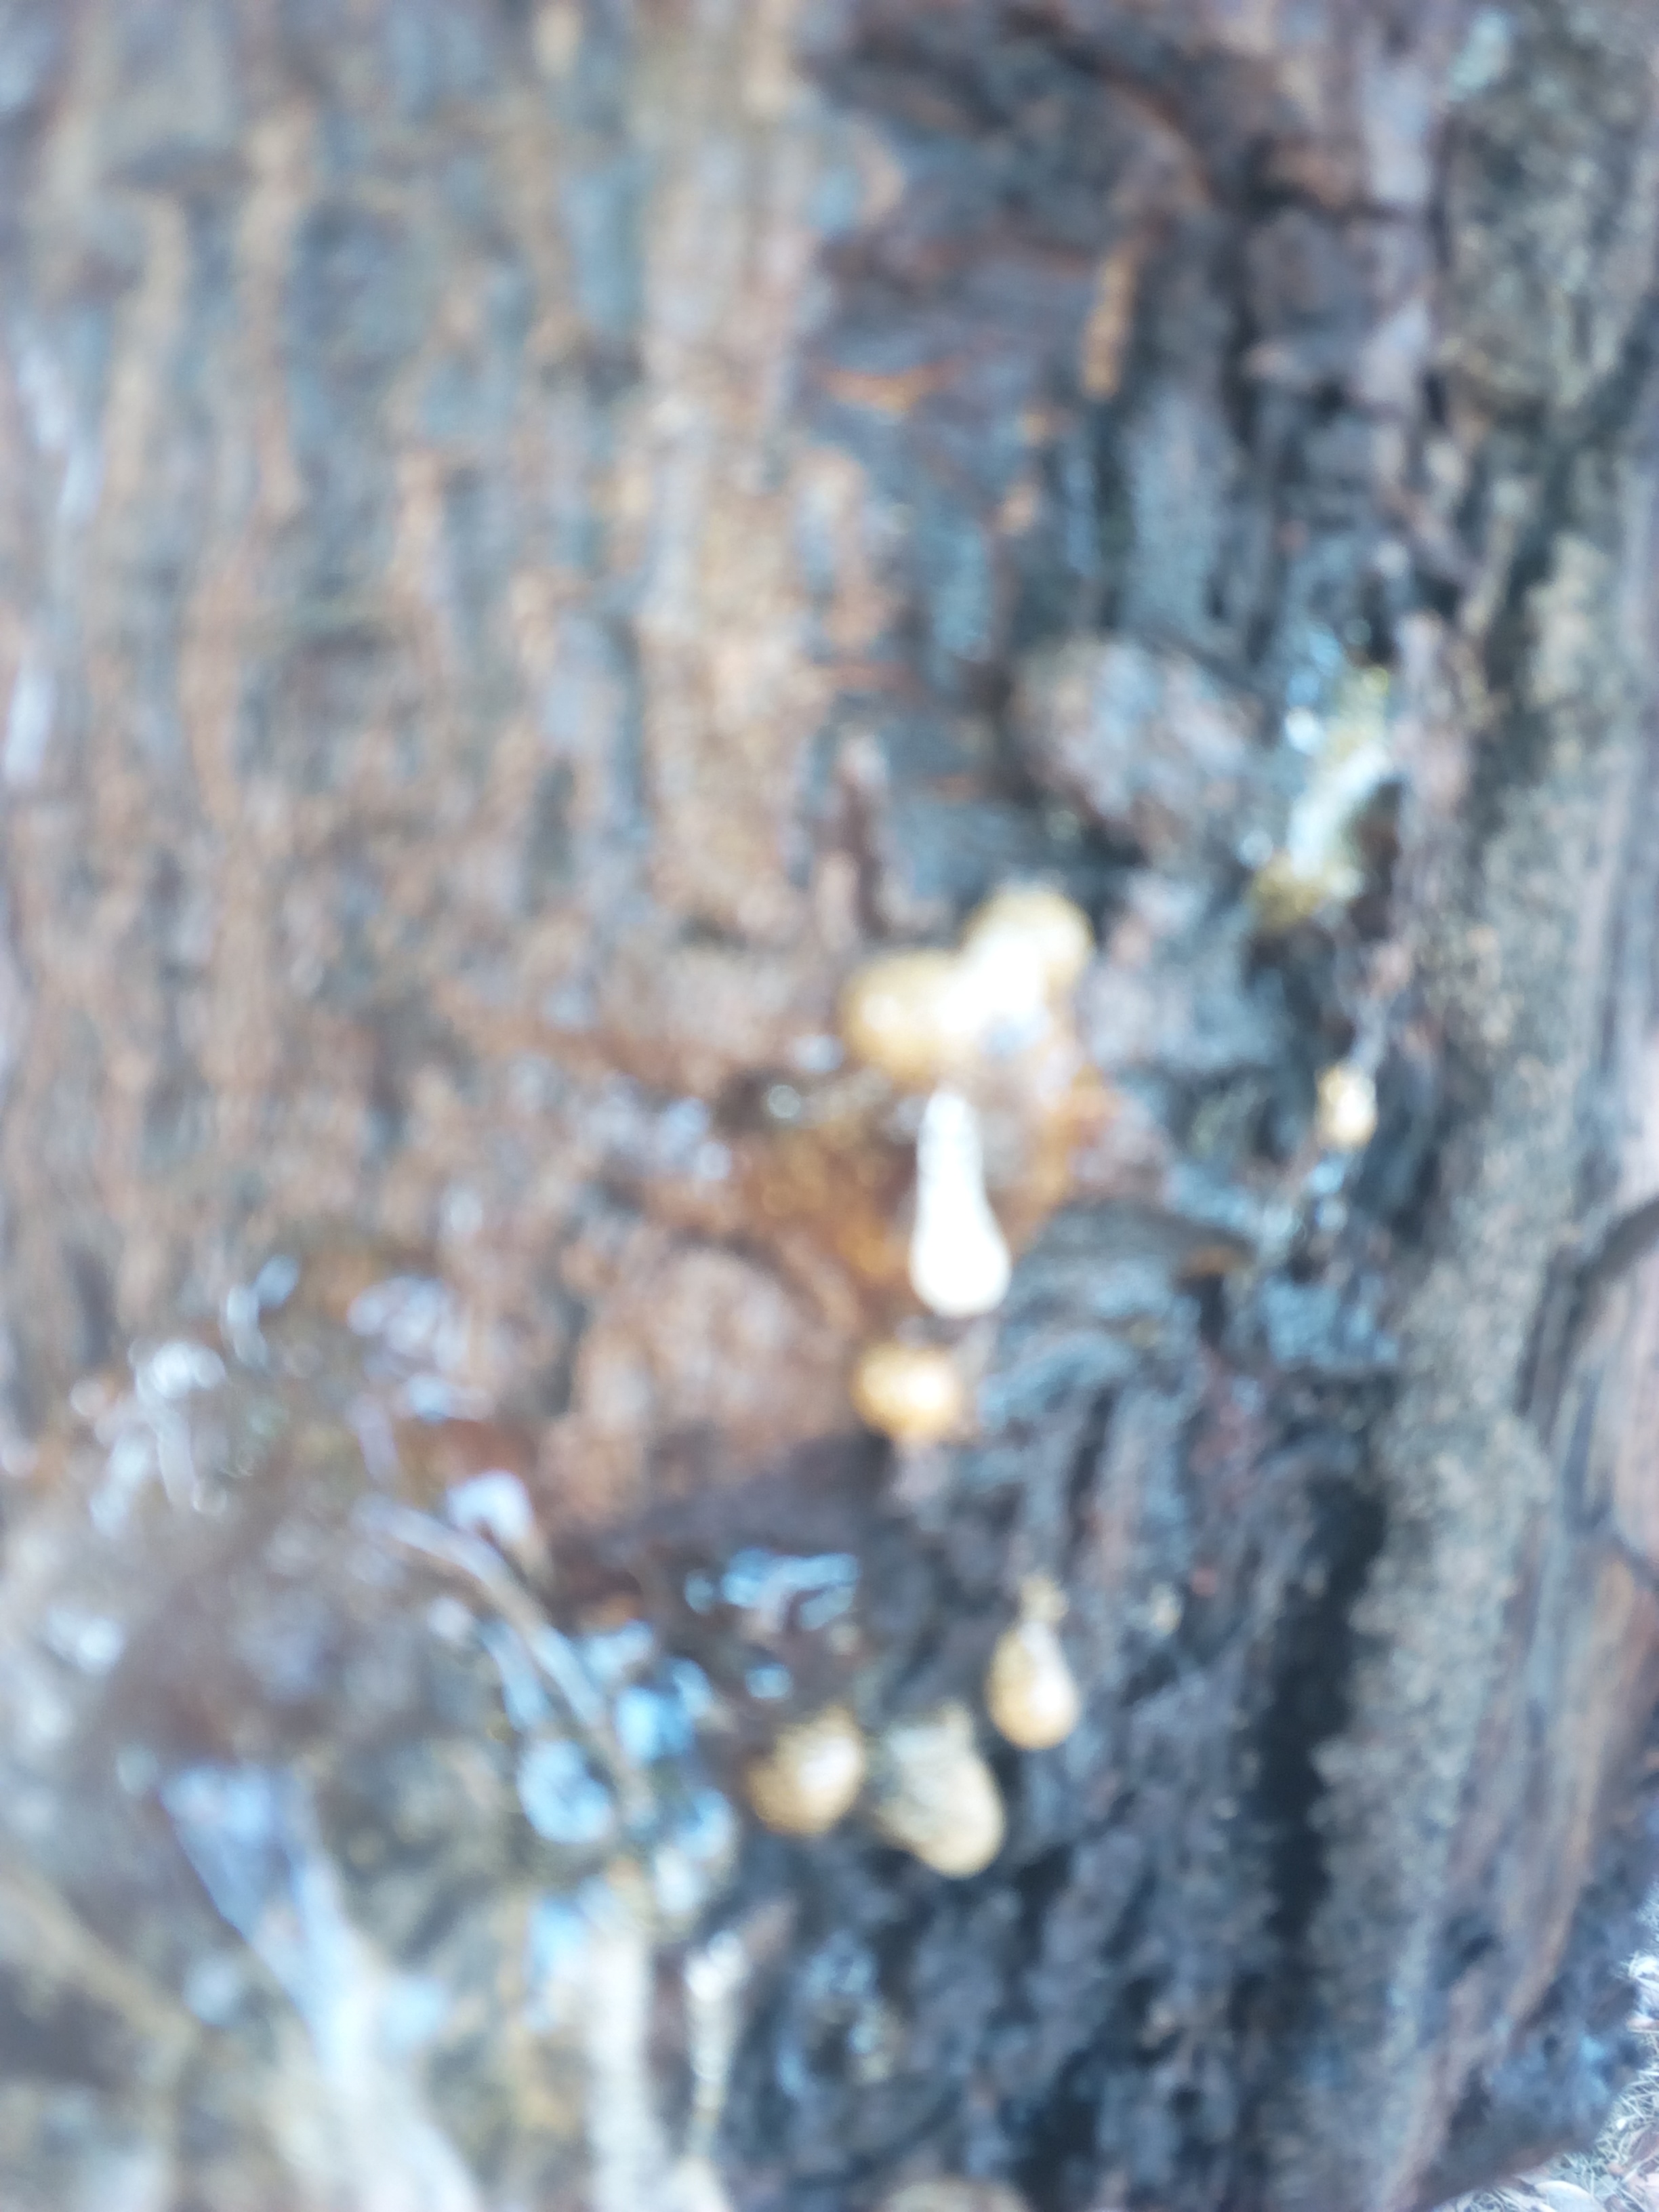Gommose: (880, 146, 1518, 2212)
